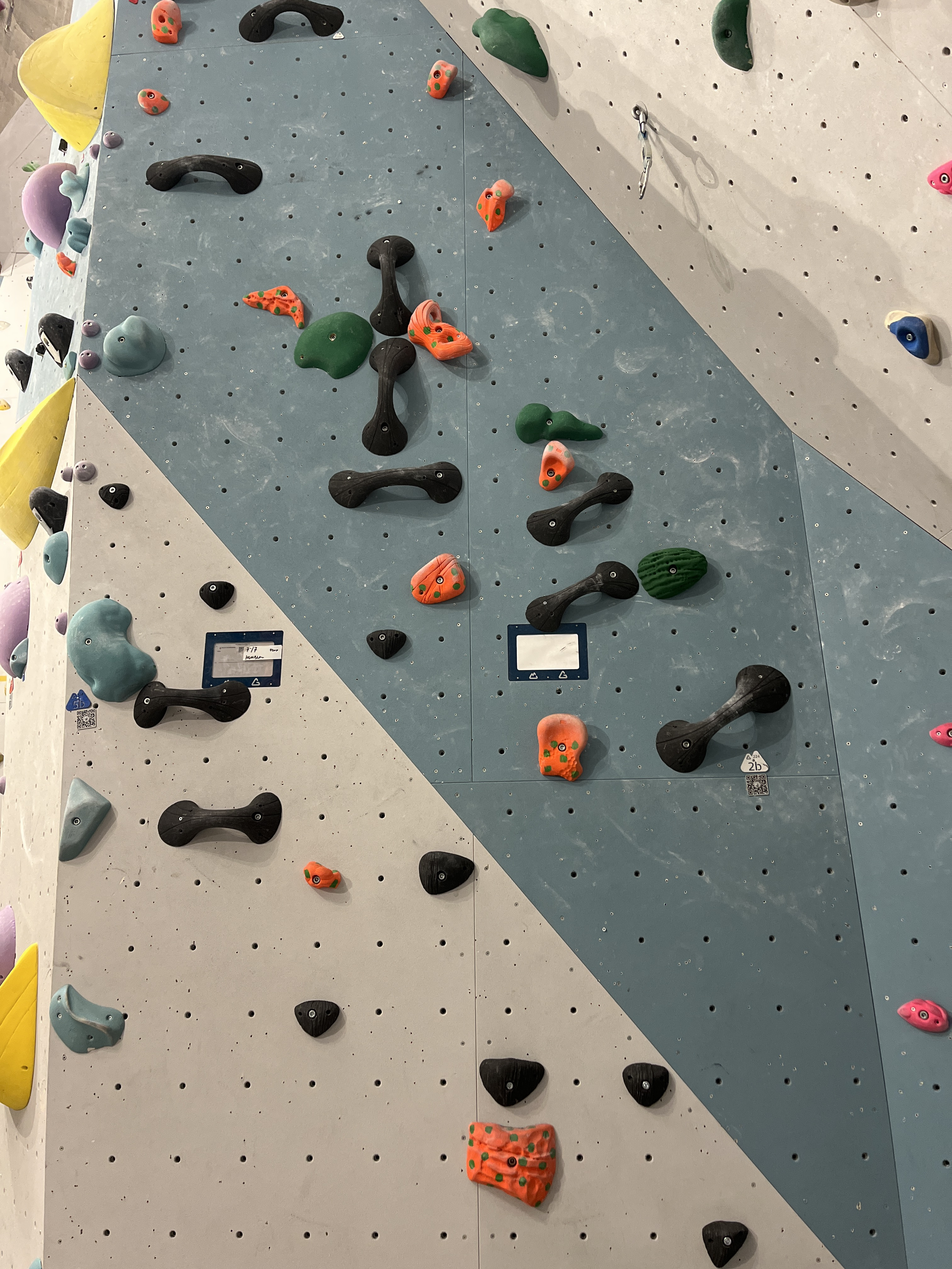hold: (658, 666, 789, 771), (19, 2, 110, 148), (0, 379, 74, 549), (67, 599, 155, 700), (526, 561, 639, 633), (466, 1124, 557, 1203), (533, 473, 631, 539), (362, 337, 414, 454), (158, 795, 281, 844), (2, 948, 37, 1108), (329, 464, 462, 505), (134, 682, 250, 725), (295, 313, 371, 377), (367, 235, 415, 336), (51, 985, 124, 1051), (476, 8, 545, 77), (22, 162, 76, 250), (146, 155, 260, 192), (60, 779, 109, 860), (408, 301, 472, 359), (240, 2, 343, 37), (103, 317, 164, 375), (638, 549, 704, 597), (885, 310, 940, 364), (539, 716, 585, 779), (481, 1059, 543, 1104), (243, 285, 305, 329), (2, 578, 29, 672), (517, 404, 583, 442), (714, 2, 751, 69), (418, 850, 474, 894), (412, 555, 464, 600), (702, 1221, 747, 1266), (622, 1062, 668, 1106), (478, 180, 512, 228), (295, 1001, 339, 1036), (60, 164, 90, 215), (898, 999, 948, 1029), (541, 442, 571, 489), (31, 488, 65, 529), (43, 531, 67, 583), (41, 313, 69, 357), (152, 2, 180, 42), (366, 629, 406, 656), (428, 61, 456, 97), (200, 581, 234, 608), (5, 348, 29, 386), (66, 216, 91, 252), (305, 862, 339, 886), (10, 638, 28, 678), (139, 89, 168, 113), (930, 161, 950, 194), (99, 483, 128, 505), (25, 230, 43, 259), (57, 251, 75, 274), (102, 131, 123, 149), (932, 724, 950, 743), (81, 351, 99, 369), (55, 612, 68, 635), (77, 462, 93, 480), (85, 319, 99, 335), (60, 466, 73, 482), (89, 143, 100, 158)
